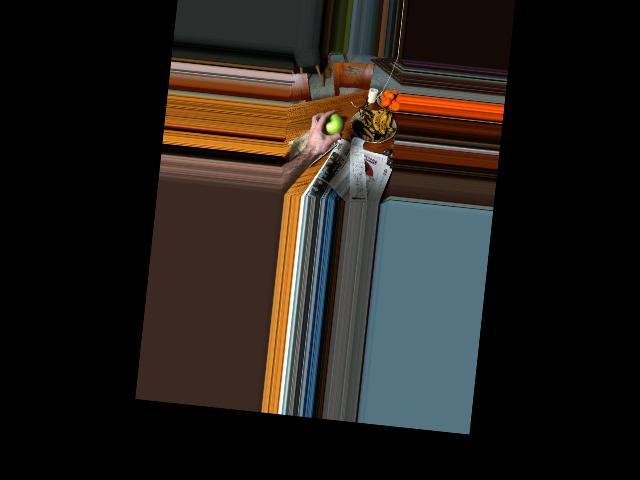apple: (319, 109, 345, 138)
